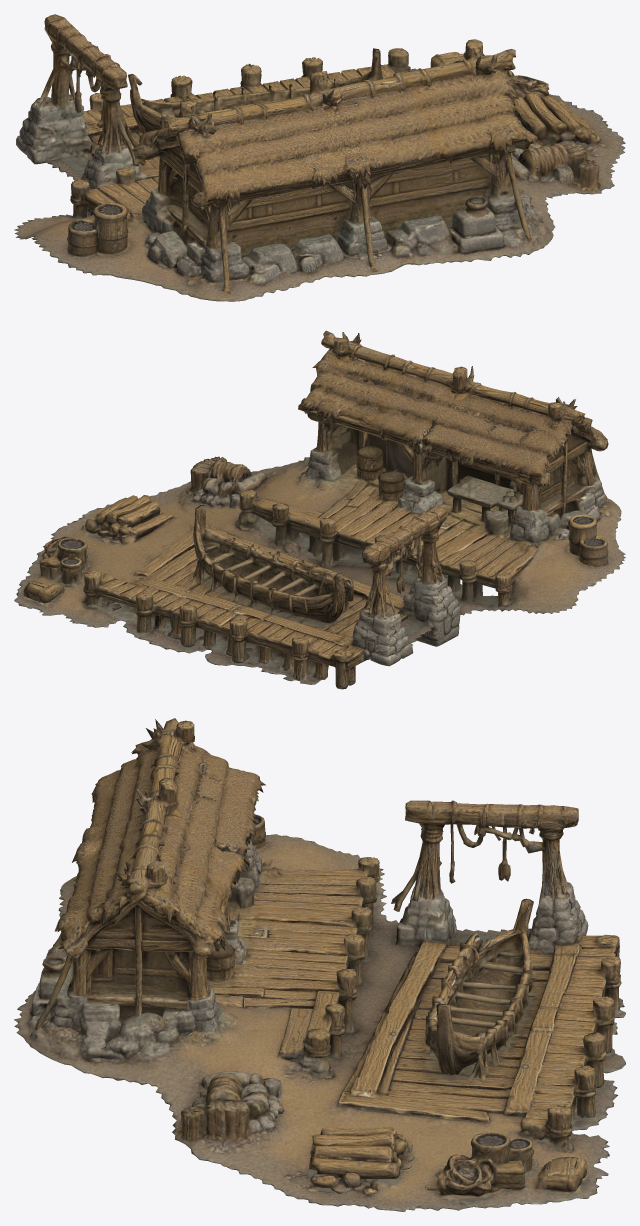
File: tripo_convert_6cc8fd75-17d1-4df4-a9d8-a072884c2928.fbx
3 renders of one model, top to bottom at view 1: azimuth 30°, elevation 25°; view 2: azimuth 150°, elevation 25°; view 3: azimuth 270°, elevation 25°, orthographic. The views are drawn at different scales.
Visible parts, largest first — view 1: tripo_node_6cc8fd75; view 2: tripo_node_6cc8fd75; view 3: tripo_node_6cc8fd75.
Boxes of the visible parts, bbox=[...] form: tripo_node_6cc8fd75: bbox=[14, 14, 625, 301]; tripo_node_6cc8fd75: bbox=[14, 330, 625, 689]; tripo_node_6cc8fd75: bbox=[14, 718, 625, 1211].
Bounding box in the file's own units: 0.9807 × 0.3398 × 0.7906.
1 material, 1 textured.
